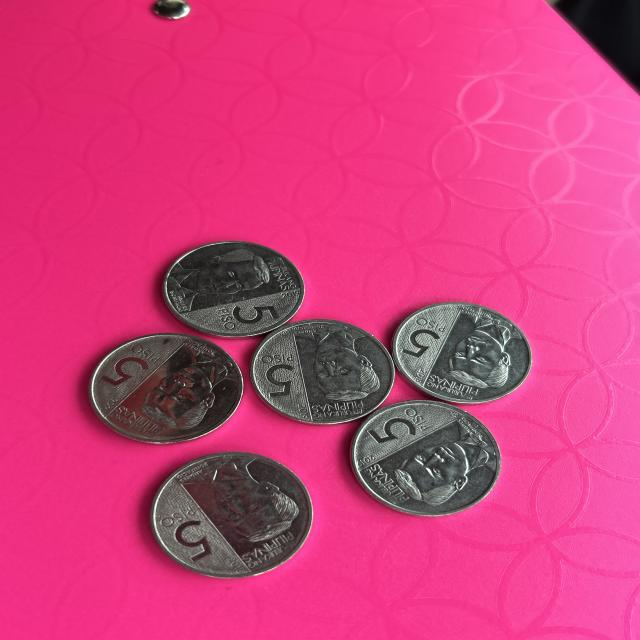5_New_Front: (161, 505, 224, 564), (365, 406, 429, 444), (215, 298, 277, 334), (104, 344, 157, 382), (401, 315, 444, 361), (260, 351, 302, 398)
